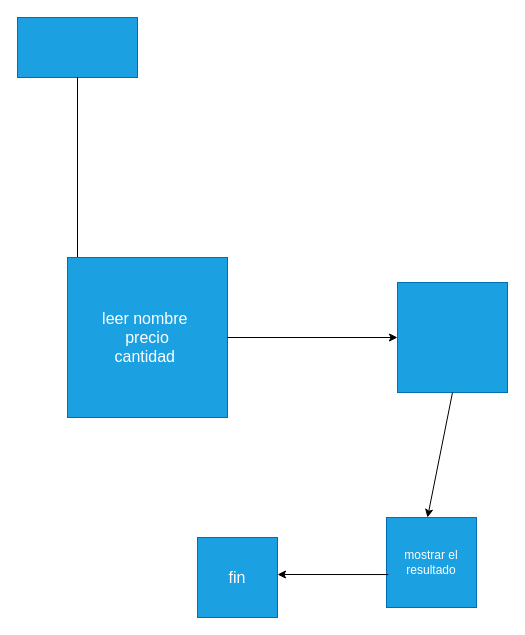
This 525x635 diagram has some shape labels left out. The shapes that lost their labels are listed below. From the top down, each one's centre as x and y in pixels, then its label:
At (77,47): "inicio".
At (452,337): "calcular costo toral (precio *cantidad)".
